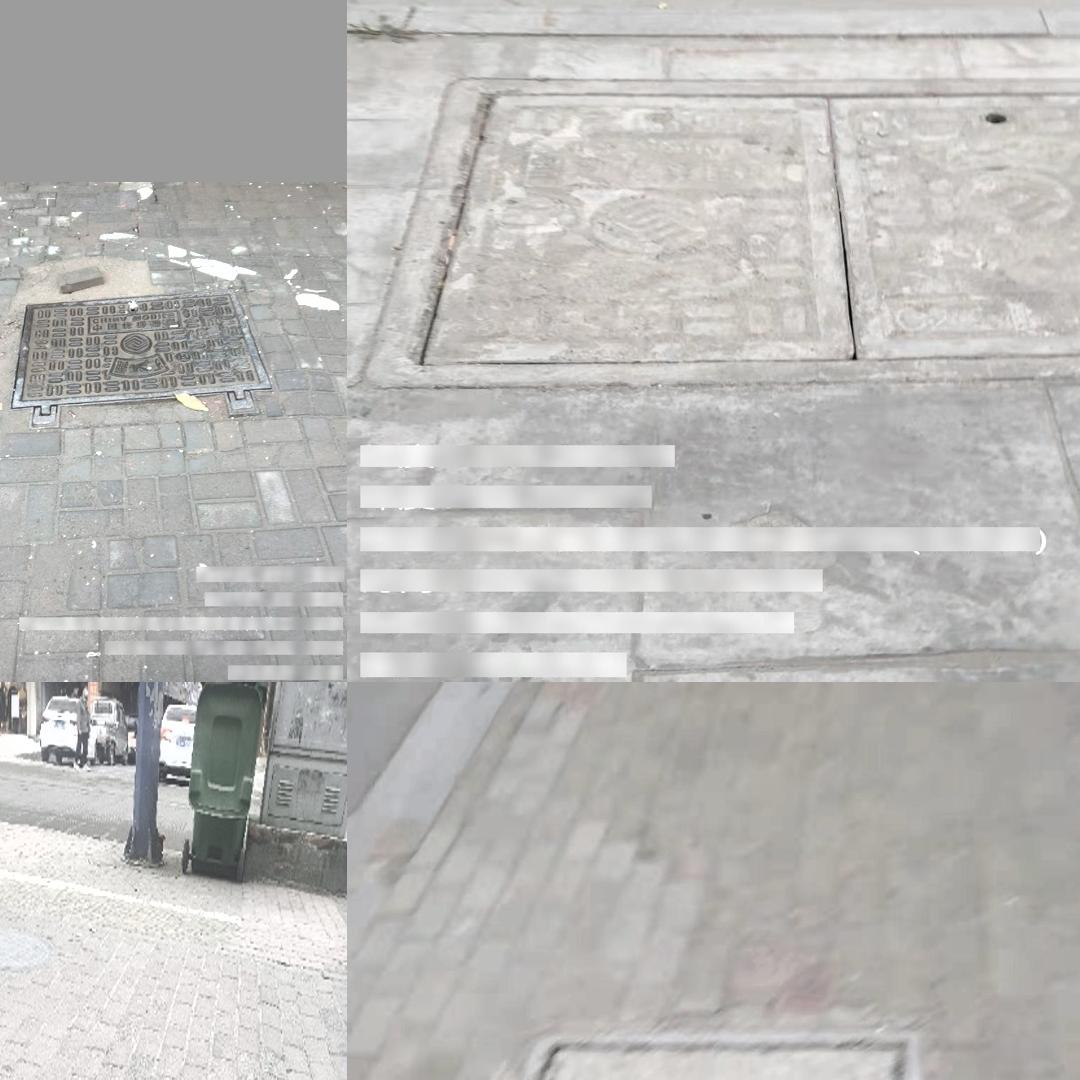good: (440, 75, 1080, 353), (347, 1026, 920, 1080), (16, 286, 249, 413)
